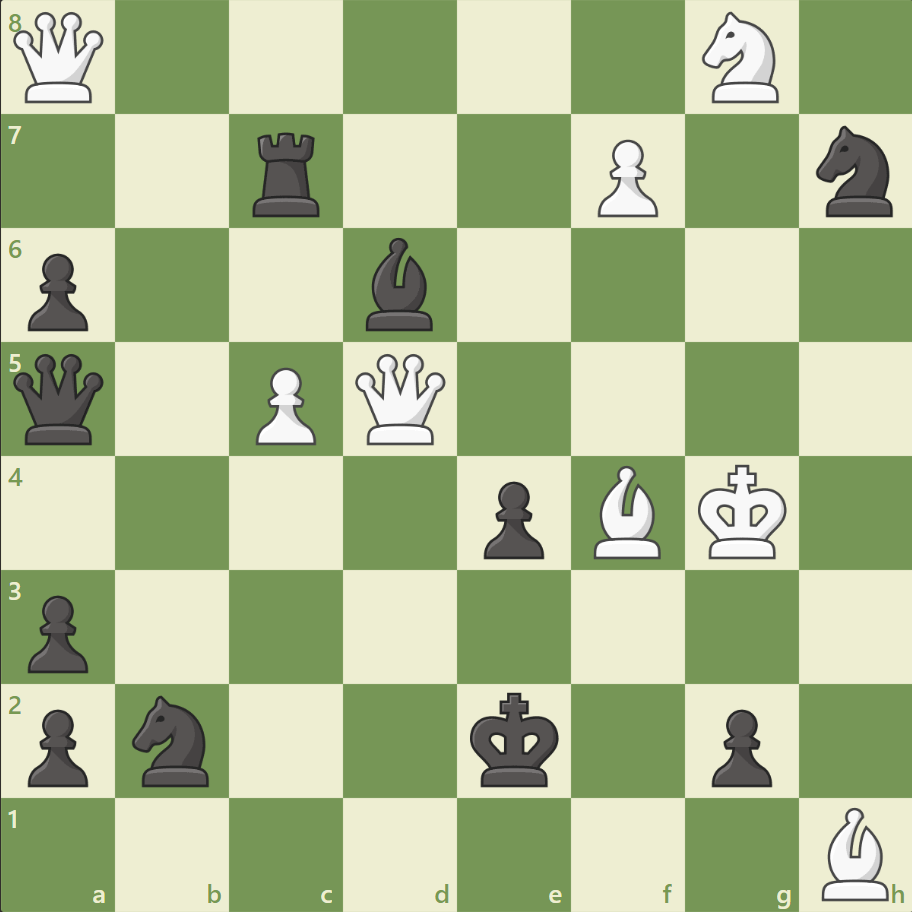B: (585, 460, 669, 563), (812, 801, 896, 904)
K: (692, 458, 792, 566)
N: (692, 7, 789, 110)
P: (247, 359, 322, 450), (588, 132, 662, 223)
Q: (351, 349, 450, 449), (10, 9, 109, 108)
b: (358, 233, 442, 336)
k: (465, 685, 565, 793)
n: (124, 688, 222, 791), (806, 121, 903, 223)
p: (20, 246, 95, 337), (474, 473, 549, 564), (20, 586, 95, 677), (20, 700, 95, 791), (701, 700, 776, 791)
q: (10, 349, 109, 449)
r: (246, 125, 329, 222)
